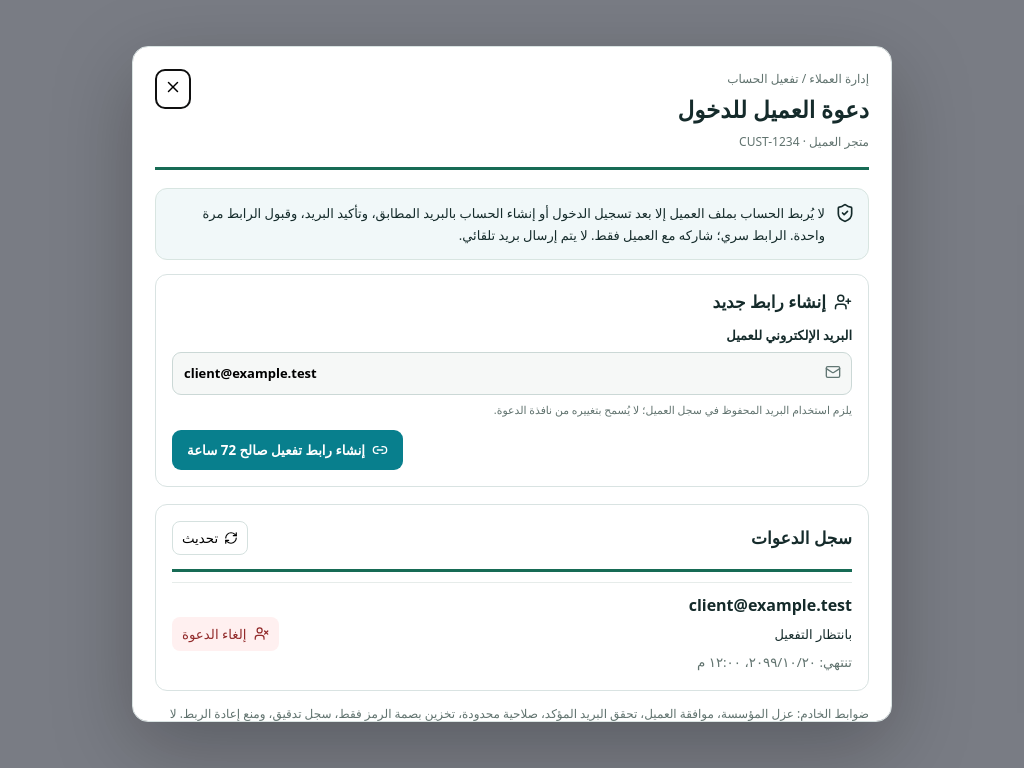
Test: customer activation invitation dialog › does not expose a success notice or shareable link when invitation creation is rejected
Click the button "إنشاء رابط تفعيل صالح 72 ساعة".
click(288, 450)  # box [172,430,403,470]
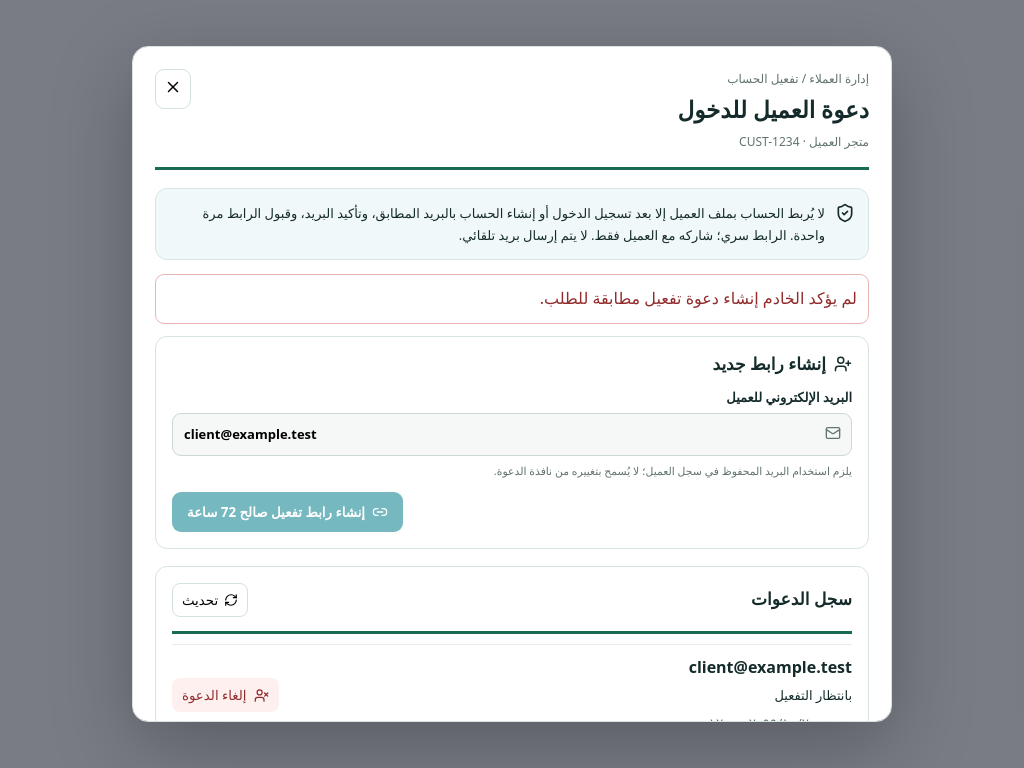
Now the message reads "لم يؤكد الخادم إنشاء دعوة تفعيل مطابقة للطلب.", box [540,287,857,309]
